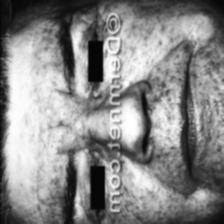Toxin: (125, 20, 178, 224), (30, 27, 61, 218), (192, 29, 224, 209), (66, 99, 108, 151)
